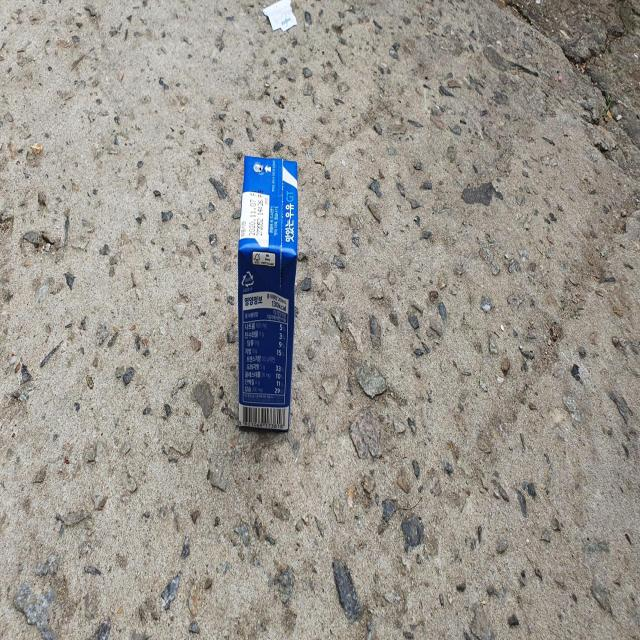paperpack: (238, 155, 298, 431)
